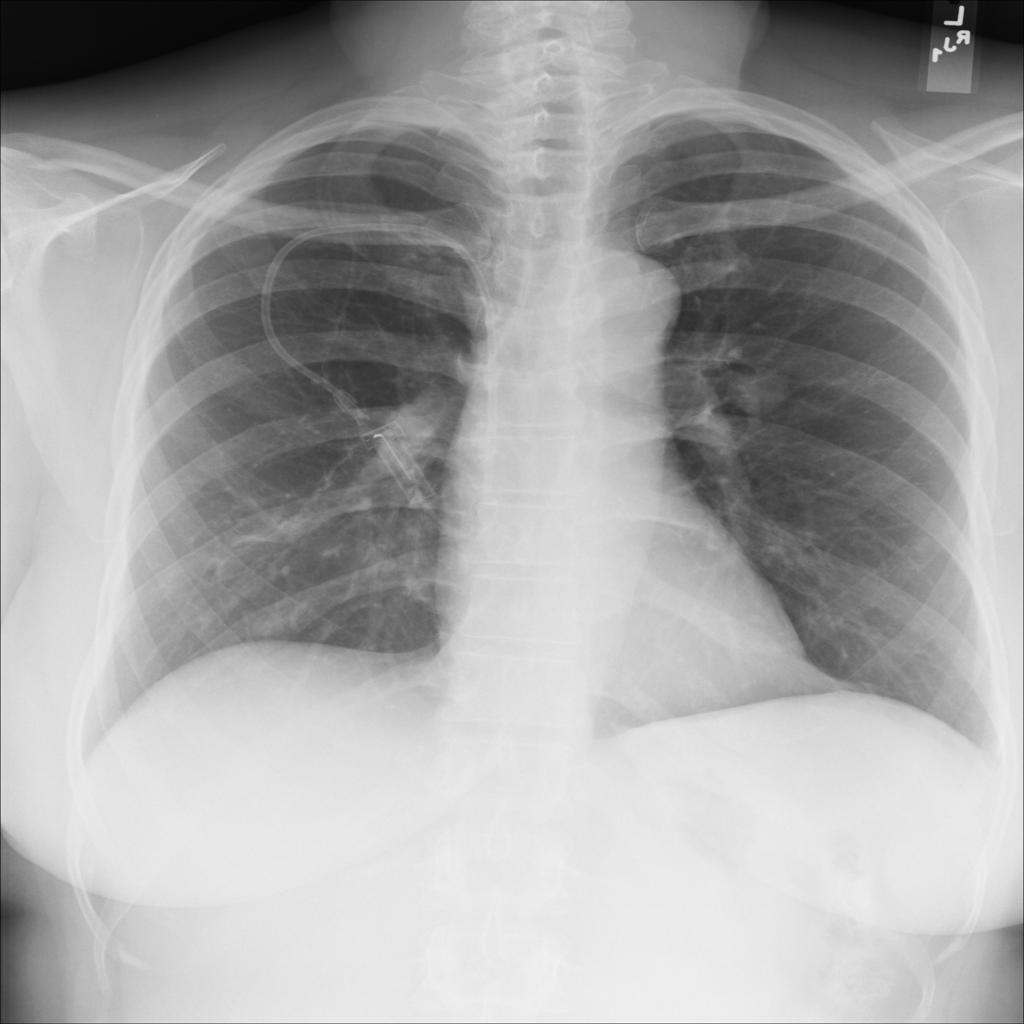nodule: (718, 351, 807, 422)
